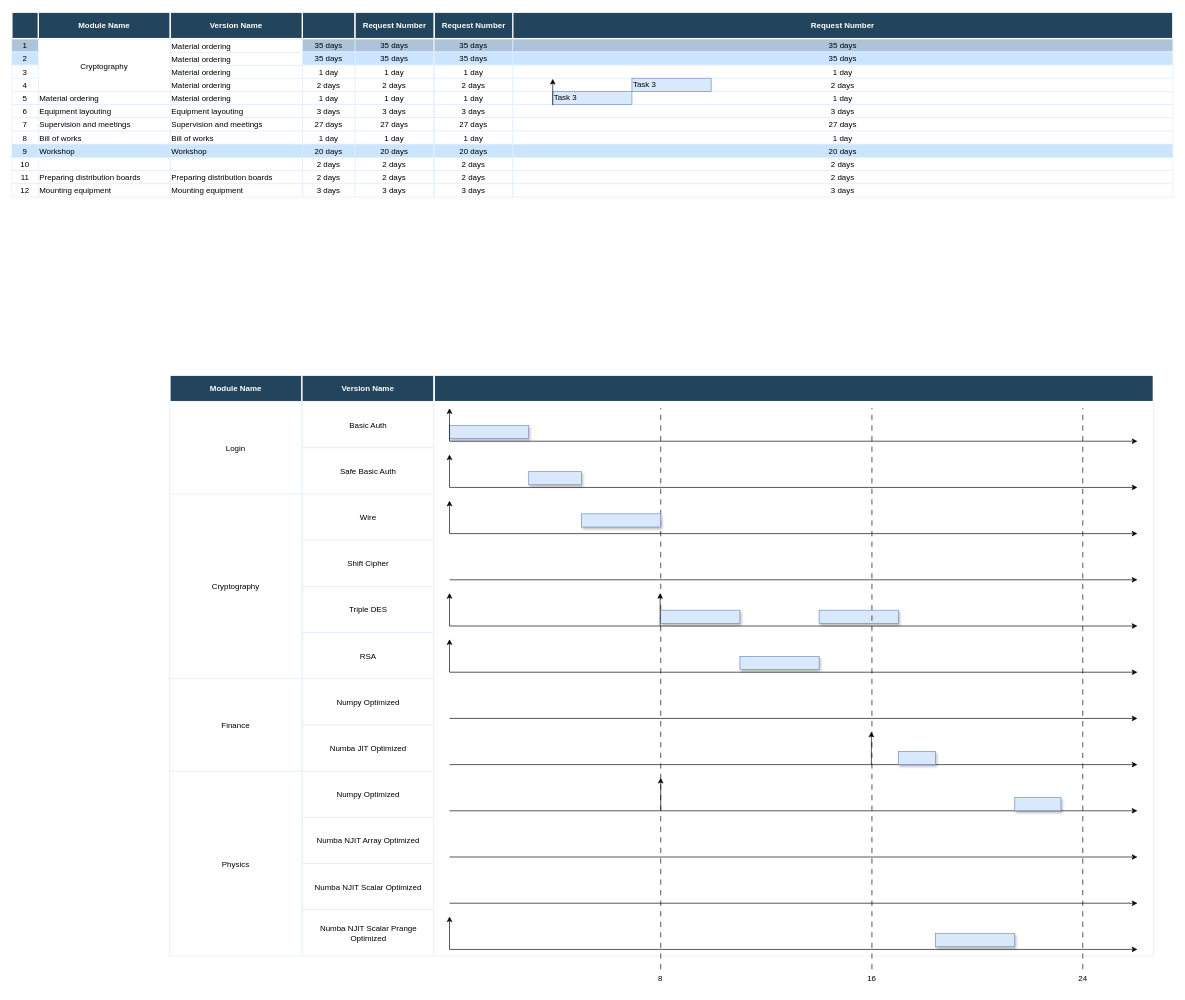
This 1185x1000 diagram has some shape labels left out. Here are the shapes that lost their labels. From the top down, the centre of each, then its label:
(x=328, y=25): WCET
(x=793, y=388): Updates Schedule Chart
